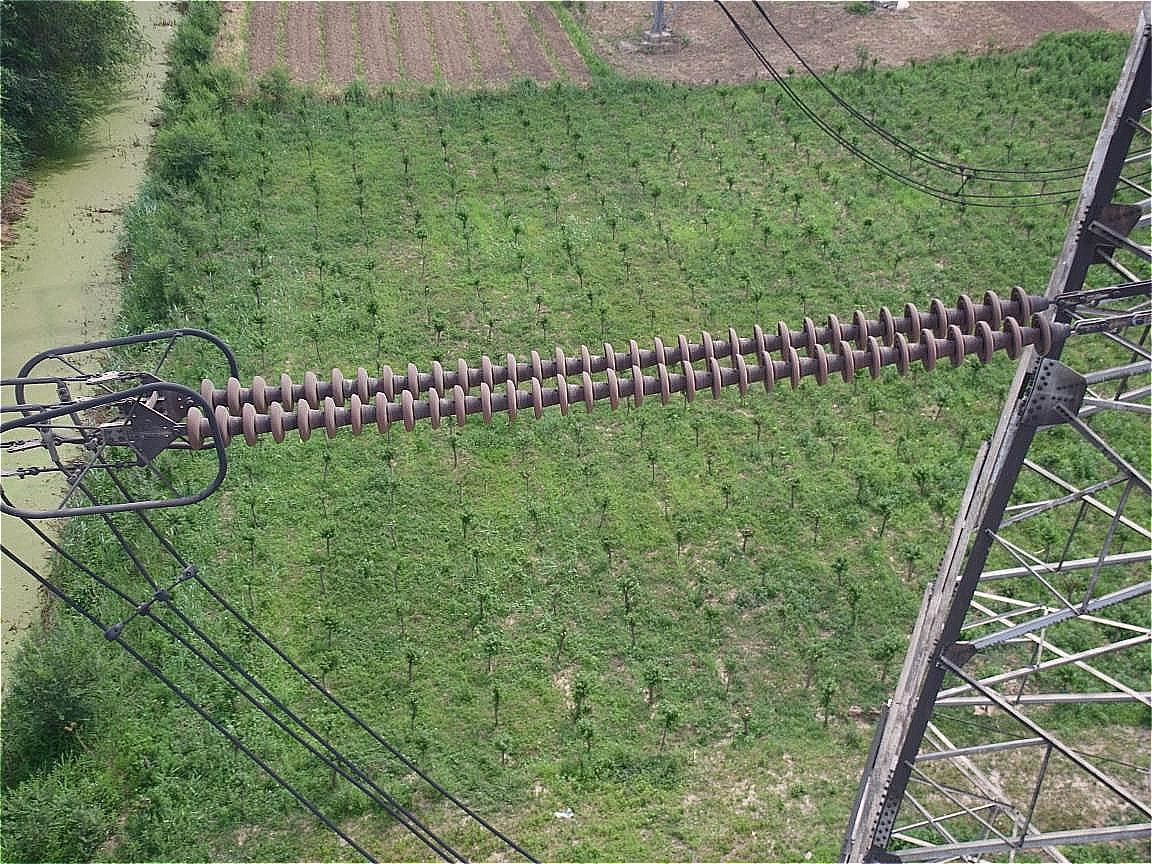insultor1: (175, 268, 1080, 453)
